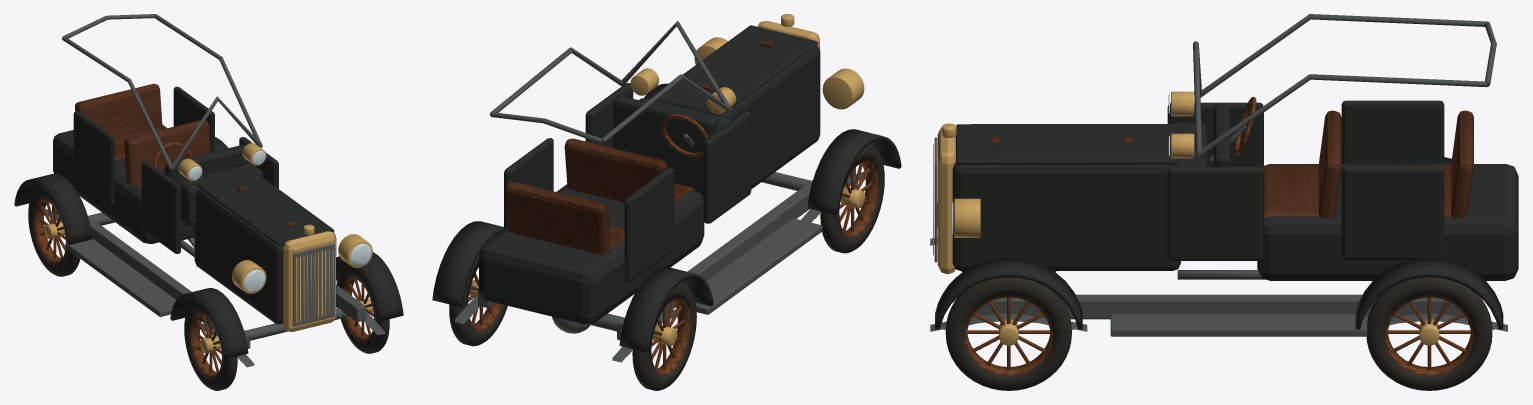
The model's file is Ford_ModelT_1912_LOD0.fbx.
3 views of the same model, side by side, from view 1: azimuth 30°, elevation 25°; view 2: azimuth 150°, elevation 25°; view 3: azimuth 270°, elevation 25° (orthographic). The views are drawn at different scales.
Parts seen in each view (by area): view 1: Ford_ModelT_1912_Body_Root_OPT_Merged_FORD_Paint_Black_OPT_D, Ford_ModelT_1912_Body_Root_OPT_Merged_RB_Leather_Saddle_OPT_, Ford_ModelT_1912_Body_Root_OPT_Merged_RB_Steel_Blackened_OPT, Ford_ModelT_1912_Body_Root_OPT_Merged_RB_Brass_Aged_OPT_DATA, Ford_ModelT_1912_Chassis_Root_OPT_Merged_RB_Steel_Blackened_, Ford_ModelT_1912_Radiator_Grid_OPT, Ford_ModelT_1912_Wheel_FL_Tire_OPT, Ford_ModelT_1912_Wheel_FR_Tire_OPT, Ford_ModelT_1912_Wheel_RL_Tire_OPT, Ford_ModelT_1912_Wheel_RL_Spin_OPT_Merged_RB_Wood_Walnut_OPT, Ford_ModelT_1912_Wheel_FL_Spin_OPT_Merged_RB_Wood_Walnut_OPT, Ford_ModelT_1912_Body_Root_OPT_Merged_RB_Acetylene_Glass_OPT (+1 smaller); view 2: Ford_ModelT_1912_Body_Root_OPT_Merged_FORD_Paint_Black_OPT_D, Ford_ModelT_1912_Body_Root_OPT_Merged_RB_Leather_Saddle_OPT_, Ford_ModelT_1912_Body_Root_OPT_Merged_RB_Steel_Blackened_OPT, Ford_ModelT_1912_Chassis_Root_OPT_Merged_RB_Steel_Blackened_, Ford_ModelT_1912_Body_Root_OPT_Merged_RB_Brass_Aged_OPT_DATA, Ford_ModelT_1912_Wheel_RL_Tire_OPT, Ford_ModelT_1912_Wheel_FL_Tire_OPT, Ford_ModelT_1912_Wheel_RL_Spin_OPT_Merged_RB_Wood_Walnut_OPT, Ford_ModelT_1912_Wheel_FL_Spin_OPT_Merged_RB_Wood_Walnut_OPT, Ford_ModelT_1912_Wheel_RR_Tire_OPT, Ford_ModelT_1912_Wheel_RR_Spin_OPT_Merged_RB_Wood_Walnut_OPT, Ford_ModelT_1912_SteeringWheel_Rim_OPT; view 3: Ford_ModelT_1912_Body_Root_OPT_Merged_FORD_Paint_Black_OPT_D, Ford_ModelT_1912_Body_Root_OPT_Merged_RB_Steel_Blackened_OPT, Ford_ModelT_1912_Chassis_Root_OPT_Merged_RB_Steel_Blackened_, Ford_ModelT_1912_Body_Root_OPT_Merged_RB_Leather_Saddle_OPT_, Ford_ModelT_1912_Wheel_RR_Tire_OPT, Ford_ModelT_1912_Wheel_FR_Tire_OPT, Ford_ModelT_1912_Body_Root_OPT_Merged_RB_Brass_Aged_OPT_DATA, Ford_ModelT_1912_Wheel_RR_Spin_OPT_Merged_RB_Wood_Walnut_OPT, Ford_ModelT_1912_Wheel_FR_Spin_OPT_Merged_RB_Wood_Walnut_OPT, Ford_ModelT_1912_Radiator_Grid_OPT.
Boxes of the visible parts, box(x1,y1,x2,y2) form: Ford_ModelT_1912_Body_Root_OPT_Merged_FORD_Paint_Black_OPT_D: box(14, 86, 403, 359); Ford_ModelT_1912_Body_Root_OPT_Merged_RB_Leather_Saddle_OPT_: box(75, 83, 297, 227); Ford_ModelT_1912_Body_Root_OPT_Merged_RB_Steel_Blackened_OPT: box(62, 14, 262, 316); Ford_ModelT_1912_Body_Root_OPT_Merged_RB_Brass_Aged_OPT_DATA: box(178, 143, 372, 331); Ford_ModelT_1912_Chassis_Root_OPT_Merged_RB_Steel_Blackened_: box(44, 205, 384, 367); Ford_ModelT_1912_Radiator_Grid_OPT: box(293, 243, 334, 326); Ford_ModelT_1912_Wheel_FL_Tire_OPT: box(184, 300, 237, 390); Ford_ModelT_1912_Wheel_FR_Tire_OPT: box(336, 263, 389, 353); Ford_ModelT_1912_Wheel_RL_Tire_OPT: box(28, 186, 80, 276); Ford_ModelT_1912_Wheel_RL_Spin_OPT_Merged_RB_Wood_Walnut_OPT: box(33, 200, 65, 263); Ford_ModelT_1912_Wheel_FL_Spin_OPT_Merged_RB_Wood_Walnut_OPT: box(189, 314, 221, 377); Ford_ModelT_1912_Body_Root_OPT_Merged_RB_Acetylene_Glass_OPT: box(189, 151, 371, 292); Ford_ModelT_1912_Body_Root_OPT_Merged_FORD_Paint_Black_OPT_D: box(432, 25, 901, 352); Ford_ModelT_1912_Body_Root_OPT_Merged_RB_Leather_Saddle_OPT_: box(505, 41, 773, 254); Ford_ModelT_1912_Body_Root_OPT_Merged_RB_Steel_Blackened_OPT: box(490, 21, 822, 314); Ford_ModelT_1912_Chassis_Root_OPT_Merged_RB_Steel_Blackened_: box(454, 167, 865, 362); Ford_ModelT_1912_Body_Root_OPT_Merged_RB_Brass_Aged_OPT_DATA: box(630, 14, 864, 114); Ford_ModelT_1912_Wheel_RL_Tire_OPT: box(632, 281, 696, 390); Ford_ModelT_1912_Wheel_FL_Tire_OPT: box(820, 144, 884, 253); Ford_ModelT_1912_Wheel_RL_Spin_OPT_Merged_RB_Wood_Walnut_OPT: box(651, 298, 690, 375); Ford_ModelT_1912_Wheel_FL_Spin_OPT_Merged_RB_Wood_Walnut_OPT: box(839, 160, 878, 237); Ford_ModelT_1912_Wheel_RR_Tire_OPT: box(449, 236, 507, 346); Ford_ModelT_1912_Wheel_RR_Spin_OPT_Merged_RB_Wood_Walnut_OPT: box(468, 267, 501, 330); Ford_ModelT_1912_SteeringWheel_Rim_OPT: box(662, 114, 708, 157); Ford_ModelT_1912_Body_Root_OPT_Merged_FORD_Paint_Black_OPT_D: box(935, 100, 1518, 329); Ford_ModelT_1912_Body_Root_OPT_Merged_RB_Steel_Blackened_OPT: box(1110, 14, 1496, 336); Ford_ModelT_1912_Chassis_Root_OPT_Merged_RB_Steel_Blackened_: box(930, 237, 1507, 331); Ford_ModelT_1912_Body_Root_OPT_Merged_RB_Leather_Saddle_OPT_: box(992, 110, 1473, 219); Ford_ModelT_1912_Wheel_RR_Tire_OPT: box(1366, 277, 1492, 390); Ford_ModelT_1912_Wheel_FR_Tire_OPT: box(945, 277, 1071, 390); Ford_ModelT_1912_Body_Root_OPT_Merged_RB_Brass_Aged_OPT_DATA: box(933, 91, 1194, 274); Ford_ModelT_1912_Wheel_RR_Spin_OPT_Merged_RB_Wood_Walnut_OPT: box(1385, 295, 1473, 375); Ford_ModelT_1912_Wheel_FR_Spin_OPT_Merged_RB_Wood_Walnut_OPT: box(964, 295, 1052, 375); Ford_ModelT_1912_Radiator_Grid_OPT: box(934, 137, 937, 262).
Size of the model in its own units: 168 by 199 by 356.
8 materials, 2 textured.
